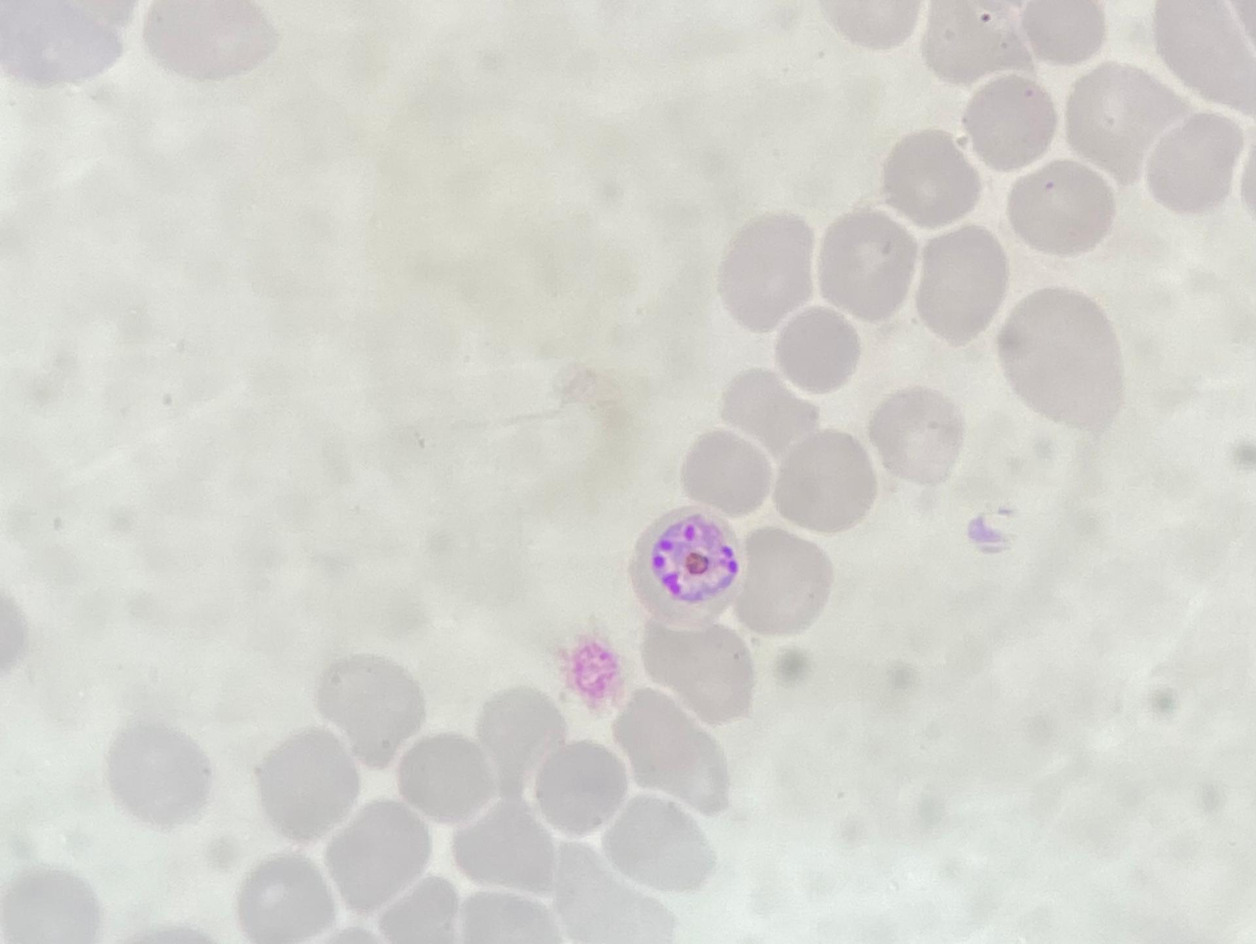Infected: (510, 317, 628, 444)
Uninfected: (137, 509, 256, 661), (0, 806, 121, 944), (240, 592, 349, 726), (526, 134, 647, 252), (822, 177, 941, 294), (83, 754, 192, 881), (1042, 116, 1163, 226), (822, 27, 929, 147), (683, 134, 779, 262), (502, 221, 621, 322), (894, 97, 997, 213), (981, 858, 1118, 944), (0, 727, 113, 831), (338, 614, 435, 734), (445, 616, 538, 732), (550, 51, 661, 147), (275, 708, 369, 818), (421, 308, 515, 418), (227, 858, 347, 944), (386, 409, 488, 506), (768, 108, 856, 219), (288, 452, 385, 550), (137, 690, 250, 774), (480, 420, 576, 518), (432, 485, 529, 579), (632, 103, 728, 197), (196, 773, 297, 862), (706, 42, 804, 133), (390, 548, 481, 642), (916, 3, 1016, 88), (1134, 876, 1256, 944)
